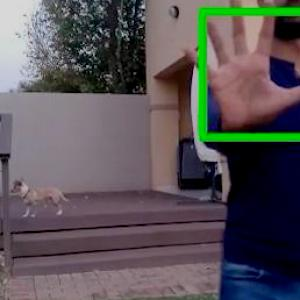follow_hand: (180, 0, 299, 133)
